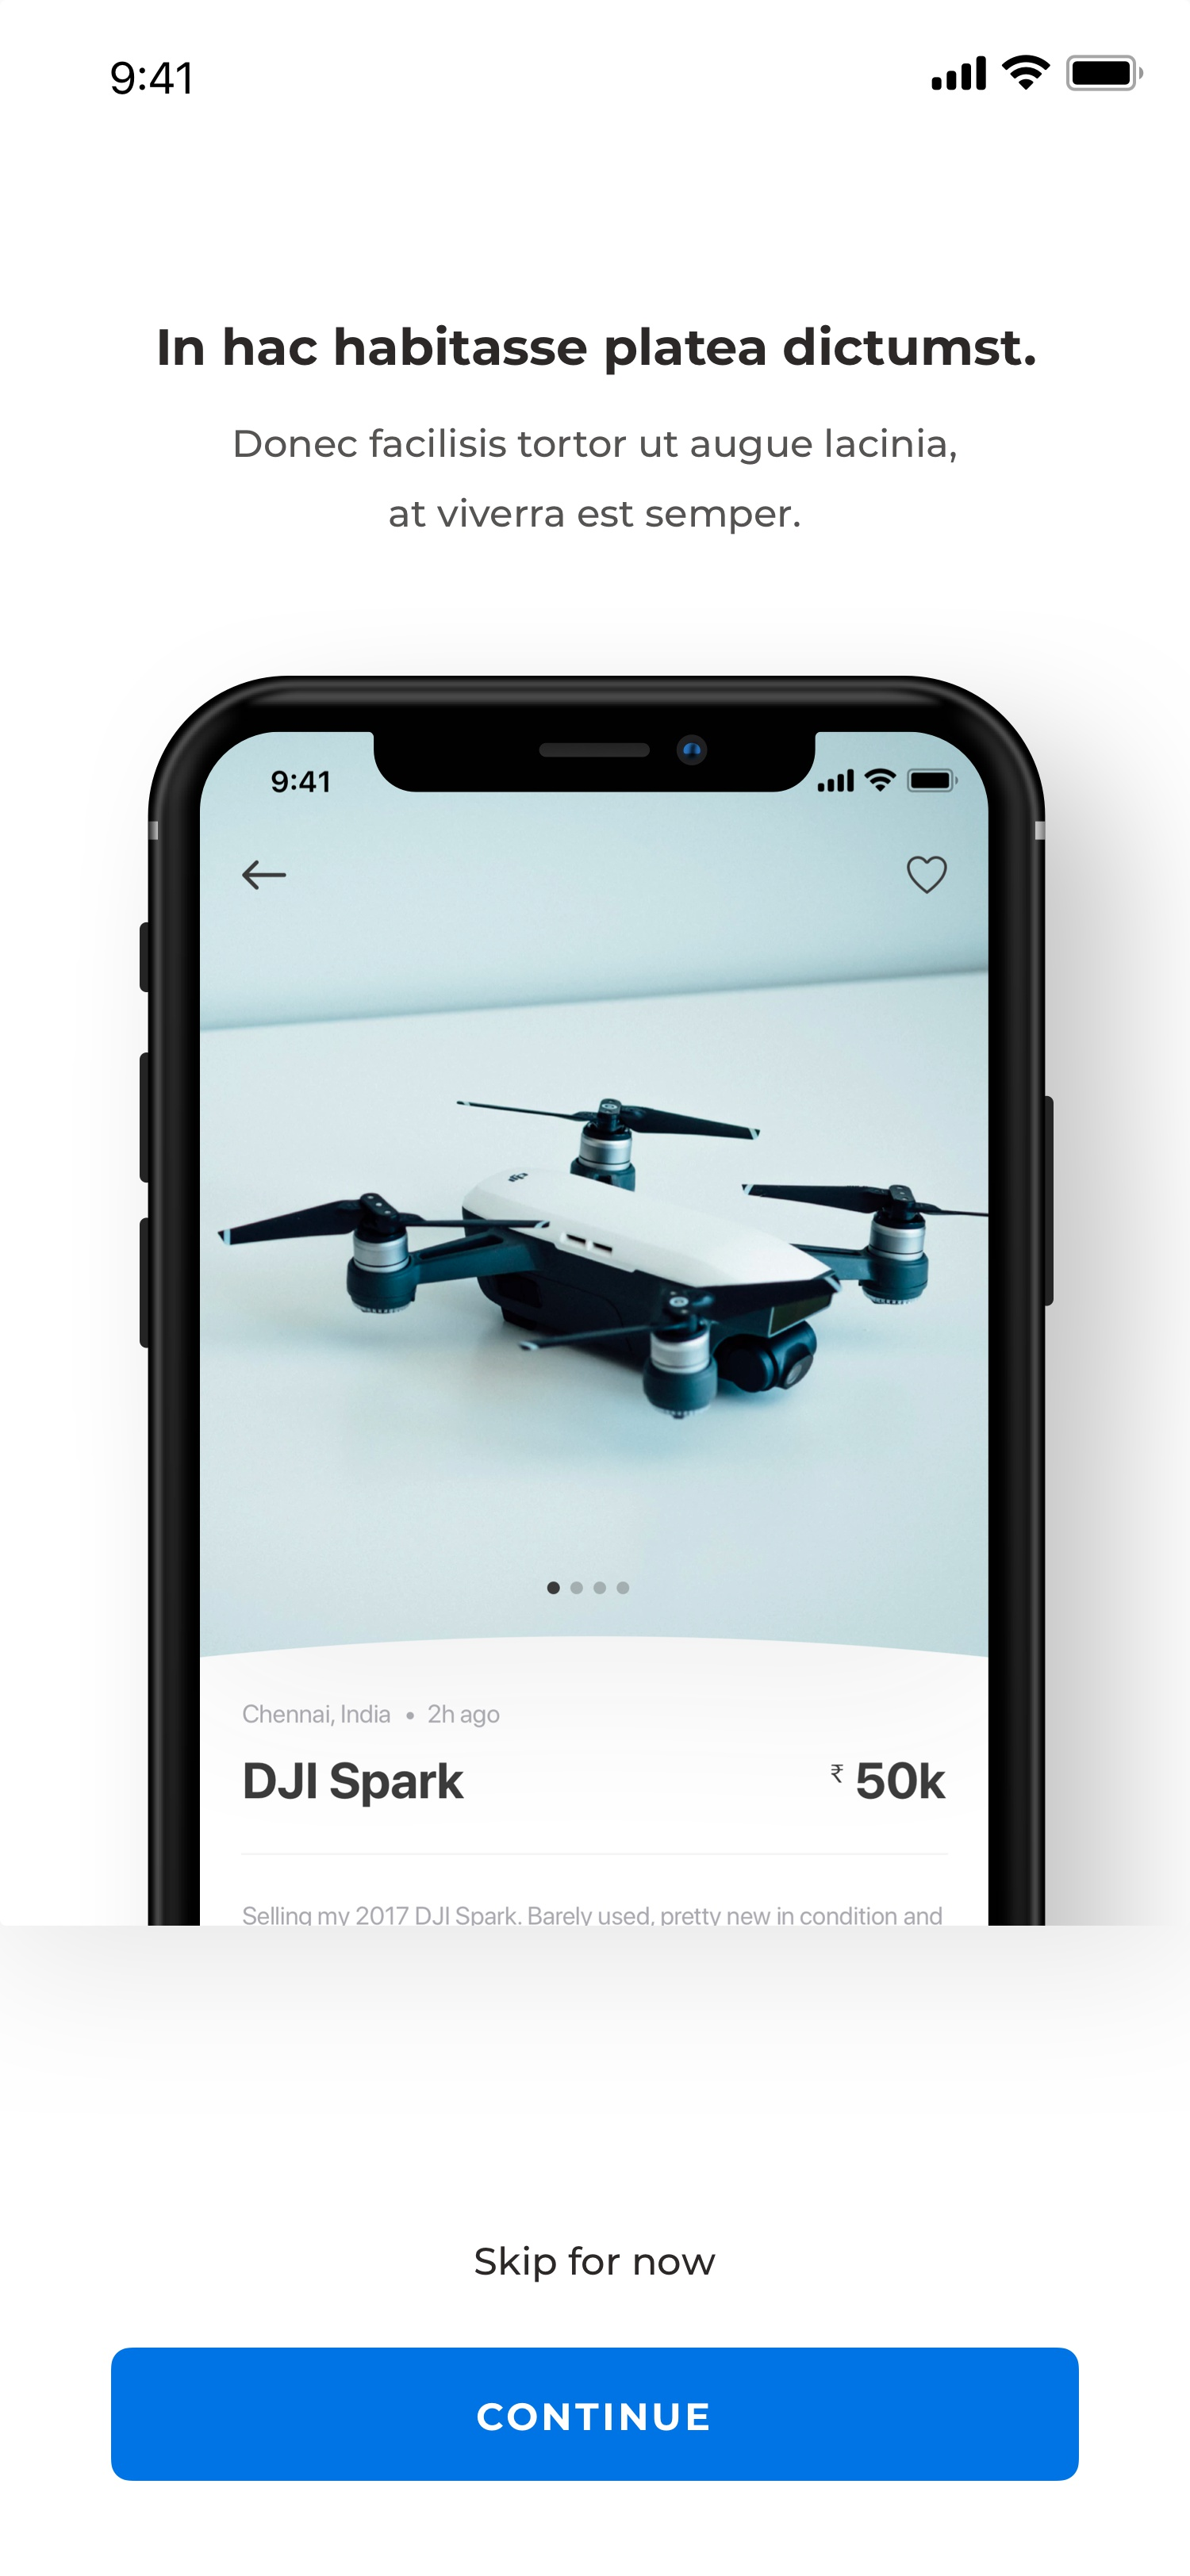Image: (138, 675, 1054, 1927)
Text: (235, 427, 957, 536), (159, 324, 1035, 376), (475, 2244, 717, 2284)
TextButton: (112, 2348, 1078, 2481)
UpperTaskBar: (112, 54, 1144, 97)
